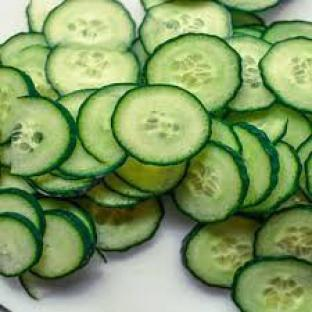Cucumber: (111, 85, 210, 165), (146, 34, 241, 110), (174, 142, 248, 221), (3, 98, 76, 176), (184, 217, 259, 287), (77, 85, 134, 173), (46, 46, 138, 94), (243, 142, 302, 214), (232, 258, 311, 311), (81, 200, 163, 250), (32, 210, 92, 278), (233, 124, 278, 209), (261, 38, 311, 112), (228, 37, 274, 110), (256, 206, 311, 262), (3, 45, 58, 99), (0, 67, 36, 144), (0, 213, 42, 277), (116, 157, 187, 194), (39, 199, 97, 242), (227, 106, 291, 142), (0, 189, 45, 234), (59, 139, 106, 178), (278, 106, 311, 148), (0, 34, 47, 63), (86, 182, 140, 207), (31, 174, 92, 196), (57, 89, 97, 120), (104, 174, 152, 199), (211, 118, 241, 152), (264, 21, 311, 42), (0, 168, 36, 194), (297, 135, 311, 196), (132, 38, 148, 84), (20, 272, 45, 299), (279, 190, 310, 210), (231, 10, 264, 27), (233, 27, 262, 38), (0, 143, 11, 169), (306, 152, 311, 199)
